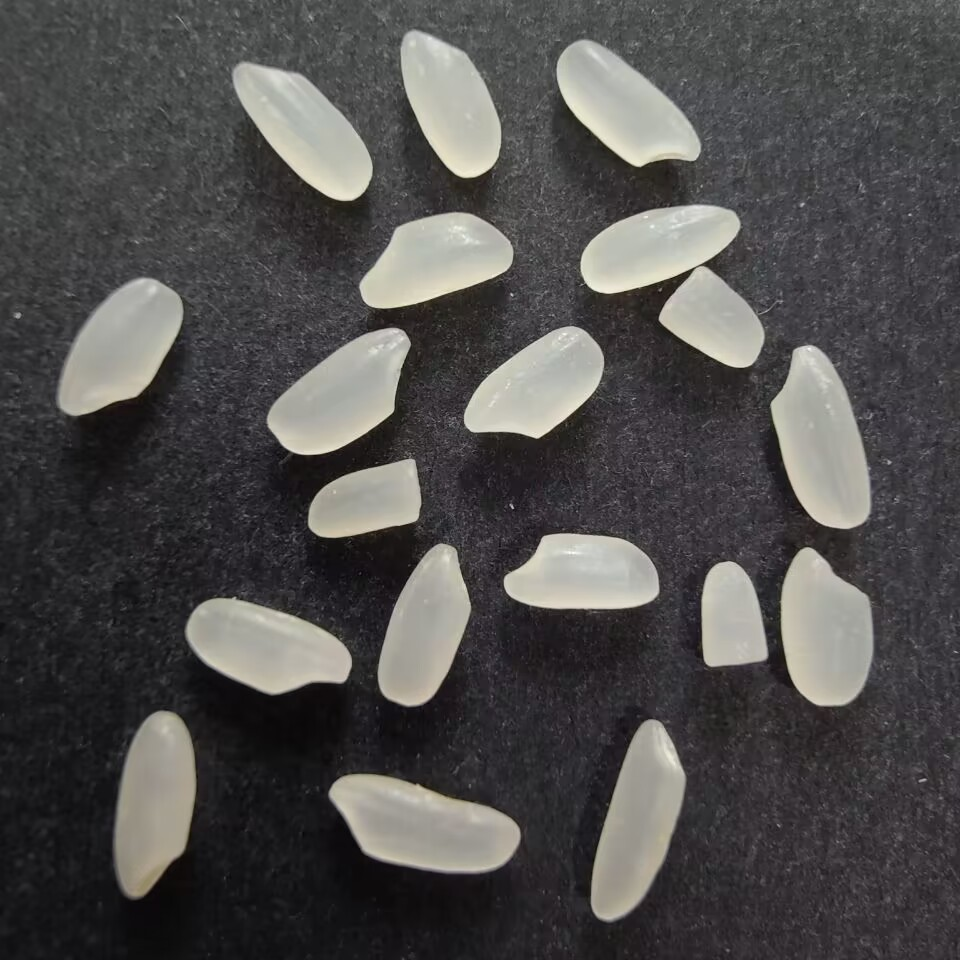broken: (657, 264, 766, 368), (303, 454, 422, 546), (693, 557, 770, 669)
rice: (228, 60, 378, 203), (587, 716, 690, 923), (766, 341, 871, 533), (553, 35, 702, 168), (52, 275, 186, 422), (327, 774, 522, 875), (264, 326, 413, 458), (109, 707, 199, 904), (183, 596, 354, 697), (394, 28, 506, 181), (777, 544, 879, 712), (375, 540, 476, 707), (458, 326, 608, 438), (355, 211, 516, 311), (577, 201, 740, 295), (499, 532, 664, 613)
